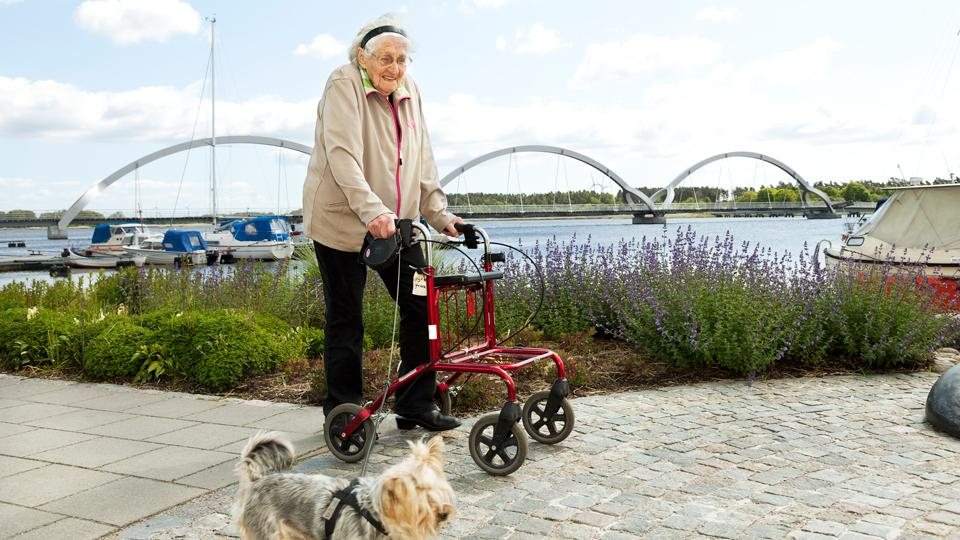walking_frame: (302, 14, 574, 477)
